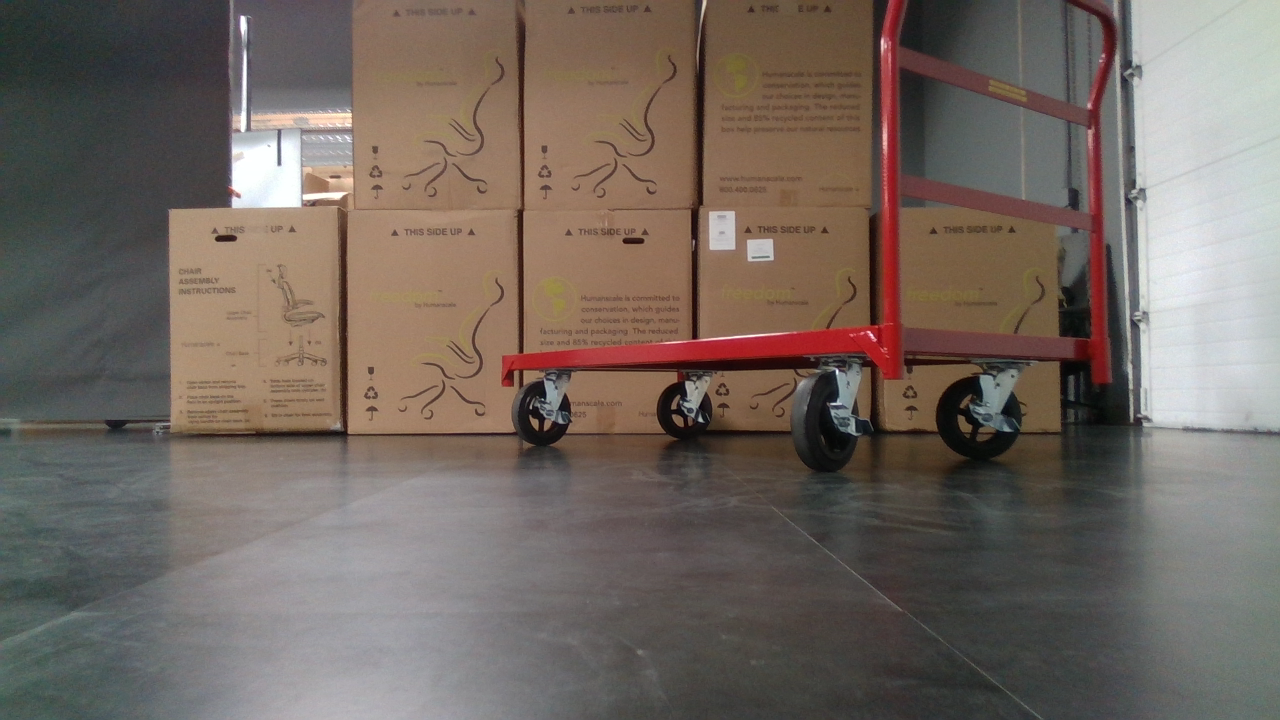Dolly: (501, 0, 1119, 469)
Wheel: (788, 356, 873, 471), (935, 359, 1032, 458), (508, 371, 573, 448), (657, 368, 719, 441)
